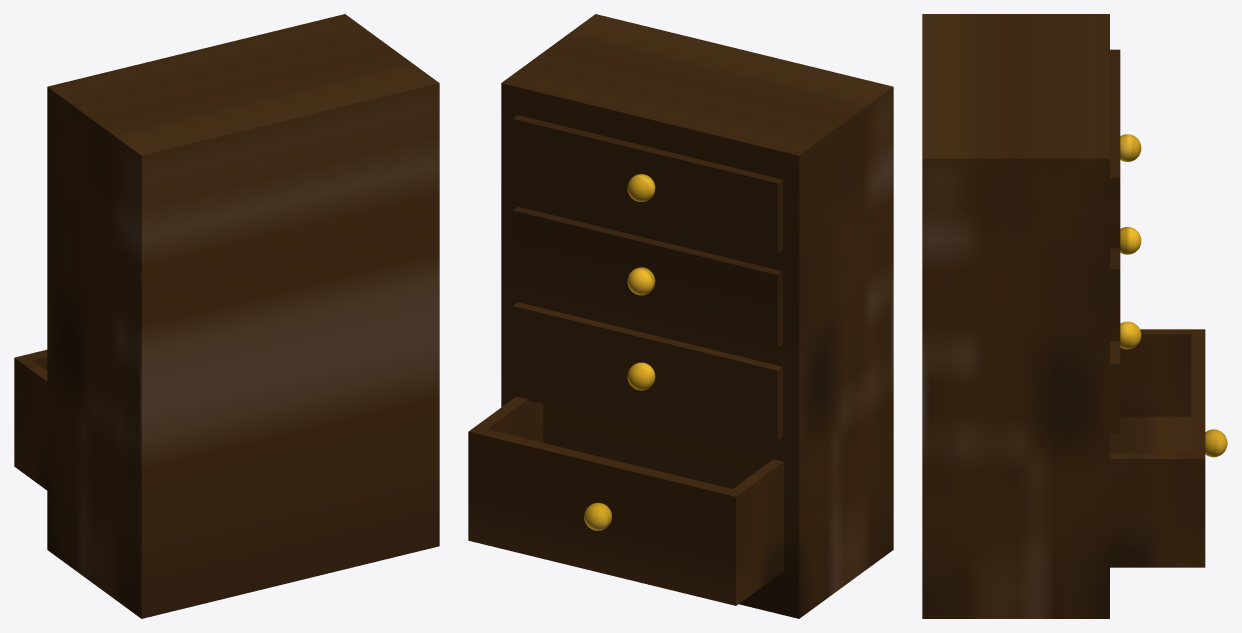
The model's file is cupboard_1.fbx.
3 views of the same model, side by side, from view 1: azimuth 30°, elevation 25°; view 2: azimuth 150°, elevation 25°; view 3: azimuth 270°, elevation 25° (orthographic).
Visible parts, largest first — view 1: polySurface11; view 2: polySurface11; view 3: polySurface11.
Boxes of the visible parts, x1,y1,x2,y2 form: polySurface11: (14, 14, 439, 618); polySurface11: (468, 14, 893, 618); polySurface11: (922, 14, 1227, 618).
Size of the model in its own units: 5.77 by 8.58 by 5.15.
